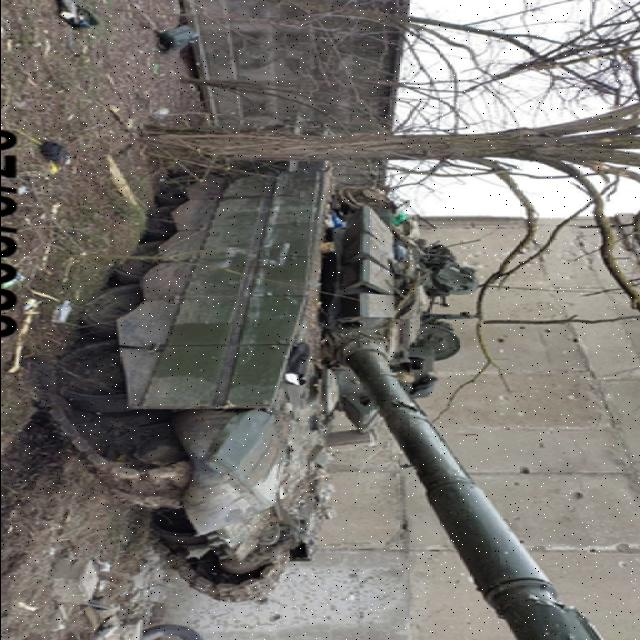TANK: (24, 122, 596, 638)
